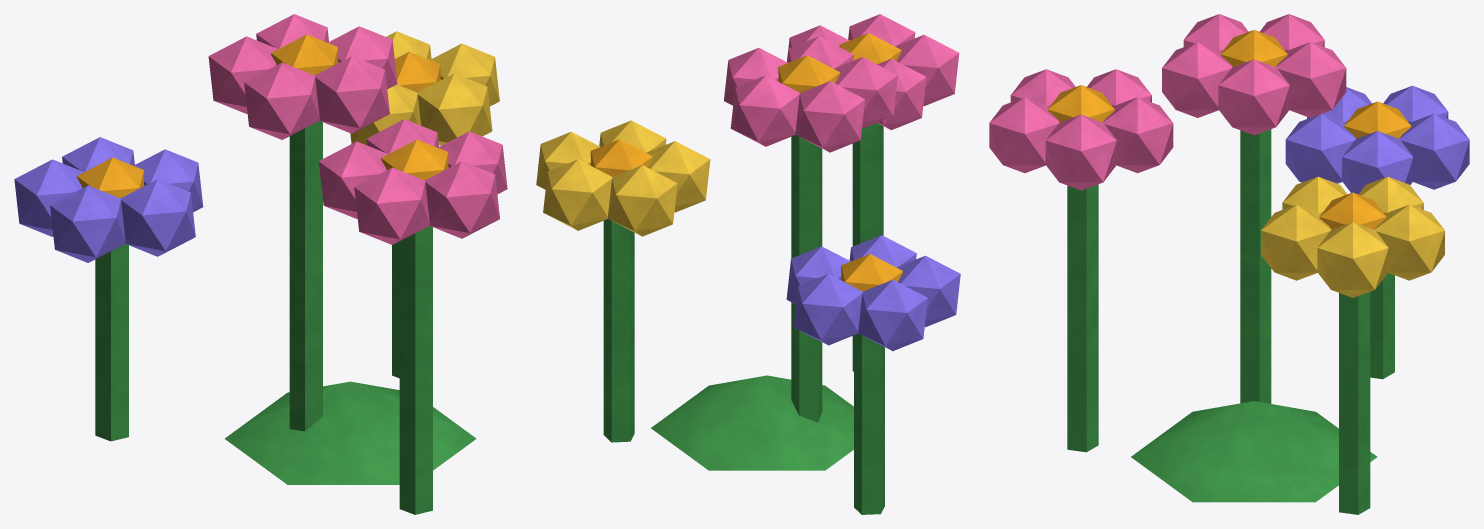
Rendered from flower_cluster.fbx.
3 views of the same model, side by side, from view 1: azimuth 30°, elevation 25°; view 2: azimuth 150°, elevation 25°; view 3: azimuth 270°, elevation 25° (orthographic). The views are drawn at different scales.
Parts seen in each view (by area): view 1: Flower_cluster; view 2: Flower_cluster; view 3: Flower_cluster.
Boxes of the visible parts, left/top/right/bottom form: Flower_cluster: left=14, top=14, right=507, bottom=514; Flower_cluster: left=536, top=14, right=960, bottom=514; Flower_cluster: left=989, top=14, right=1469, bottom=514.
Size of the model in its own units: 2.04 by 1.81 by 1.95.
Materials: 1 (1 with a texture image).
